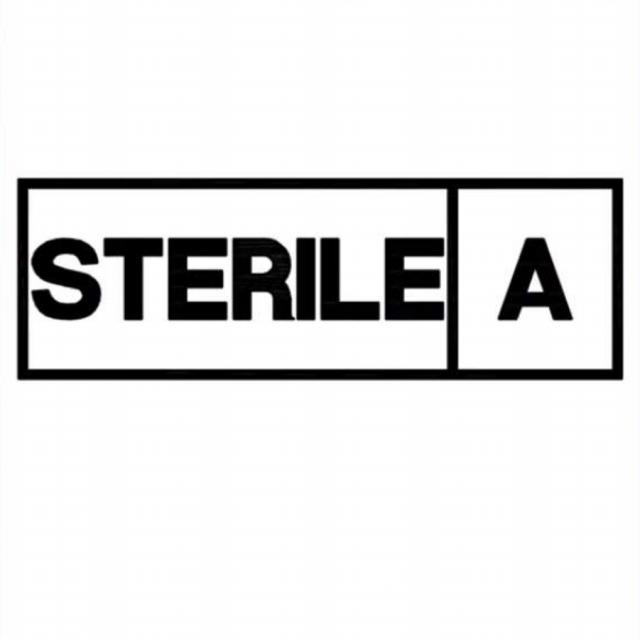Sterilized using aseptic techniques: (19, 177, 626, 383)
